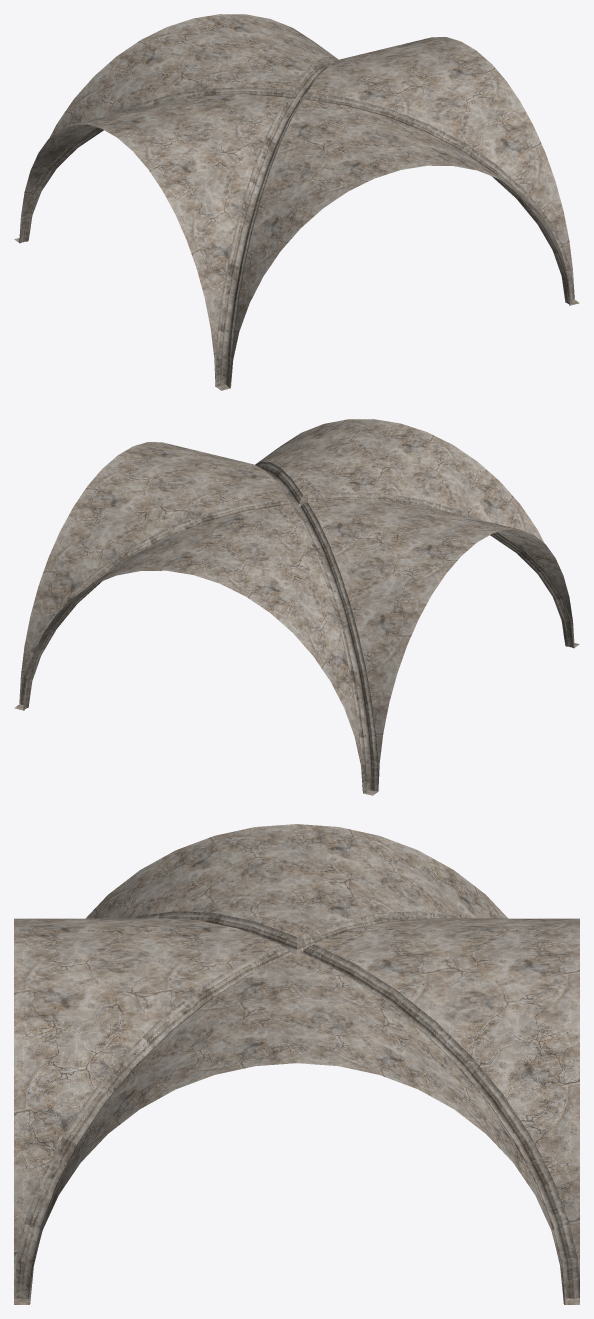
3 views of the same model, one above another, from view 1: azimuth 30°, elevation 25°; view 2: azimuth 150°, elevation 25°; view 3: azimuth 270°, elevation 25° (orthographic). The views are drawn at different scales.
Parts seen in each view (by area): view 1: SM_RoomCeiling_NoWalls_LOD0; view 2: SM_RoomCeiling_NoWalls_LOD0; view 3: SM_RoomCeiling_NoWalls_LOD0.
Part boxes in pixels (bbox=[...]): SM_RoomCeiling_NoWalls_LOD0: bbox=[14, 14, 579, 390]; SM_RoomCeiling_NoWalls_LOD0: bbox=[14, 419, 579, 795]; SM_RoomCeiling_NoWalls_LOD0: bbox=[14, 824, 579, 1304].
Size of the model in its own units: 6 by 2.83 by 6.
2 materials, 2 textured.
